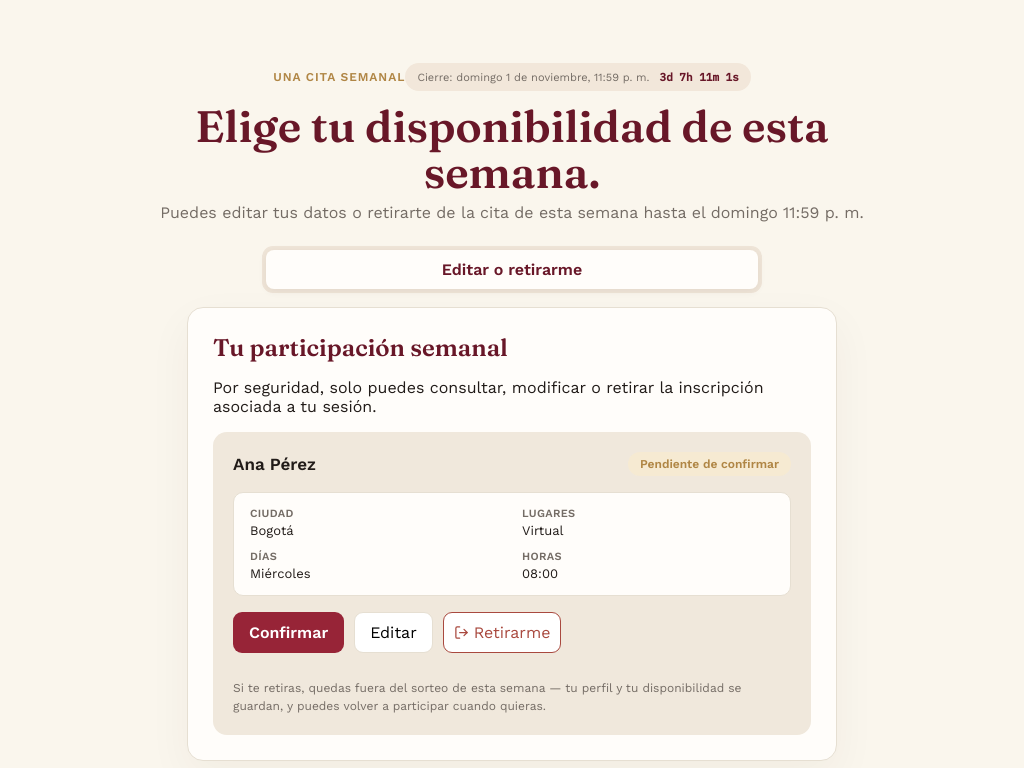
RegistrationPanel · editar o retirarme (usuario demo autenticado) › editar precarga el formulario con los datos guardados y vuelve al wizard
Expected: the text "Ana Pérez" is shown, [233, 454, 316, 474]
Click the button "Editar". click: [393, 633]
box: [354, 612, 433, 653]
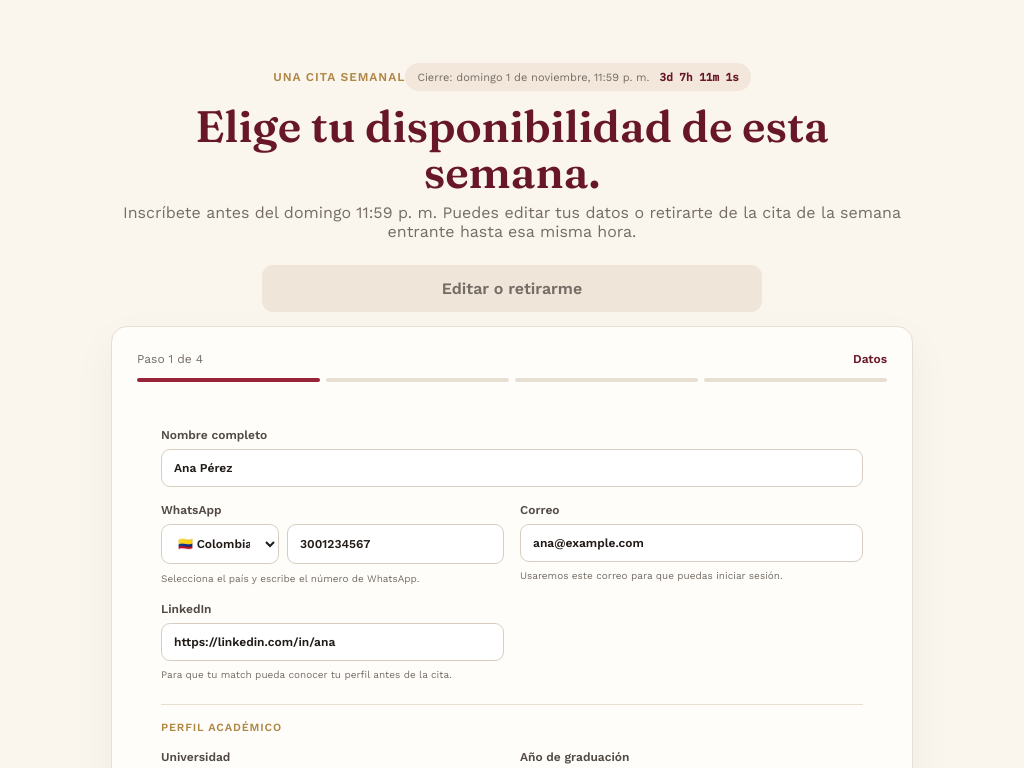
Now the field labelled "Nombre completo" holds "Ana Pérez", box [161, 449, 863, 487]
Now the field labelled "Correo Usaremos este correo para que puedas iniciar sesión." holds "ana@example.com", box [520, 524, 863, 562]
Now the field labelled "LinkedIn" holds "https://linkedin.com/in/ana", box [161, 623, 504, 661]
